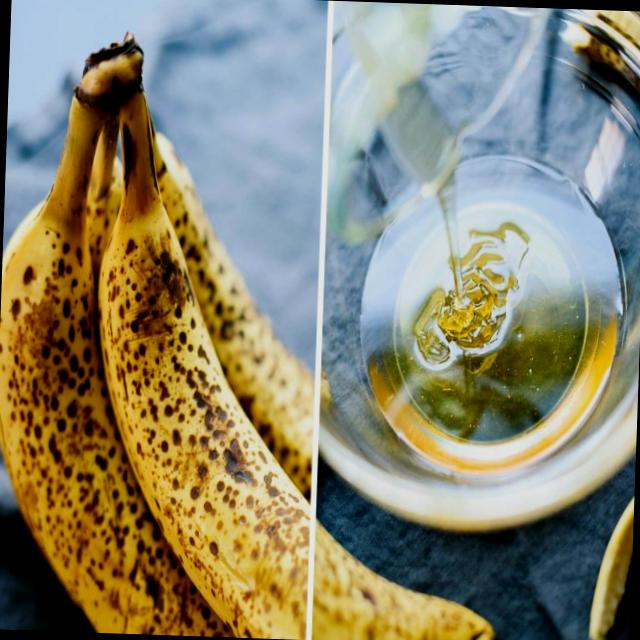banana: (87, 191, 503, 640), (0, 188, 255, 636)
